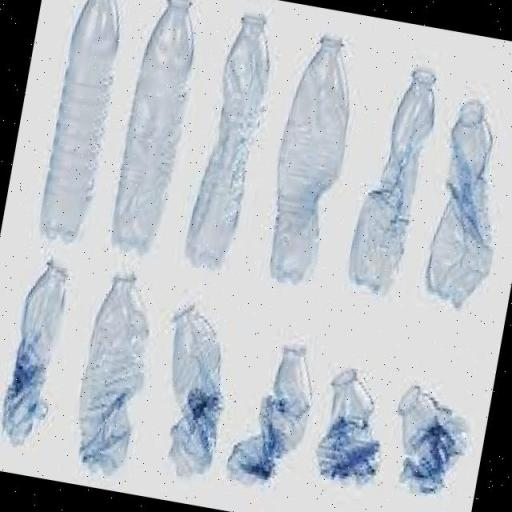plastic: (254, 22, 368, 296), (176, 3, 286, 284), (335, 51, 448, 313), (102, 0, 208, 265), (28, 0, 138, 250), (409, 80, 512, 329), (58, 262, 170, 489), (140, 290, 244, 484), (222, 319, 327, 500), (0, 253, 79, 451), (378, 366, 476, 508), (300, 349, 394, 496)
